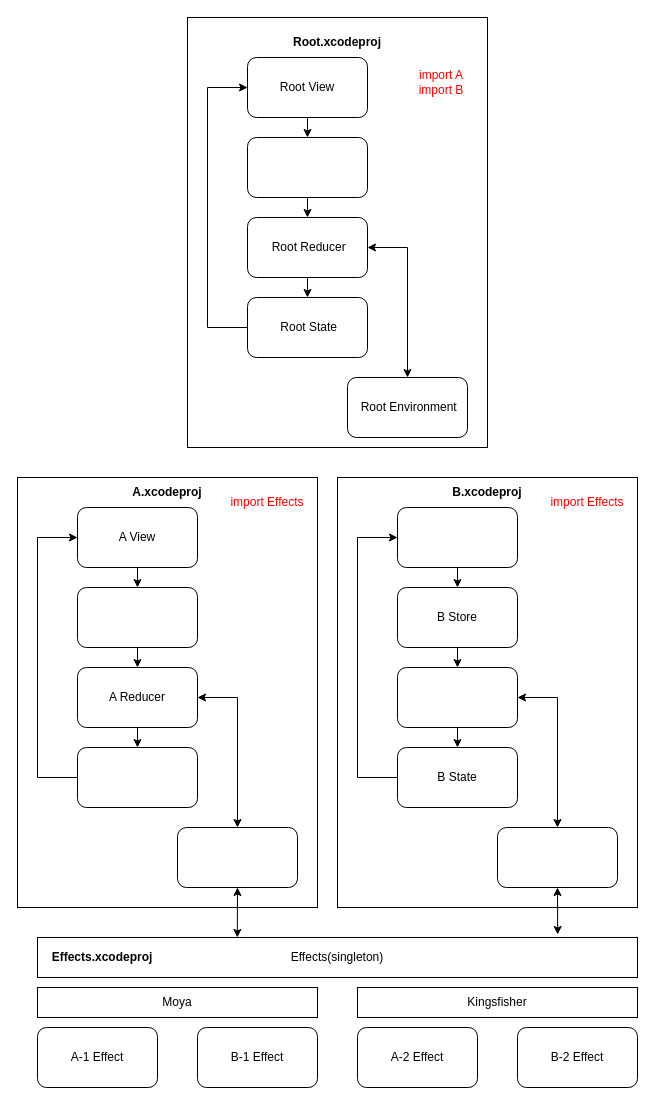
Some shapes in this 655 by 1105 pixel diagram are drawn without their labels. Here are the shapes that lost their labels. From the top down, the centre of each, then its label:
At pixel 307 167: "Root Store".
At pixel 457 537: "B View".
At pixel 137 617: "A Store".
At pixel 457 697: "B Reducer".
At pixel 137 777: "A State".
At pixel 237 857: "A Environment".
At pixel 557 857: "B Environment".
